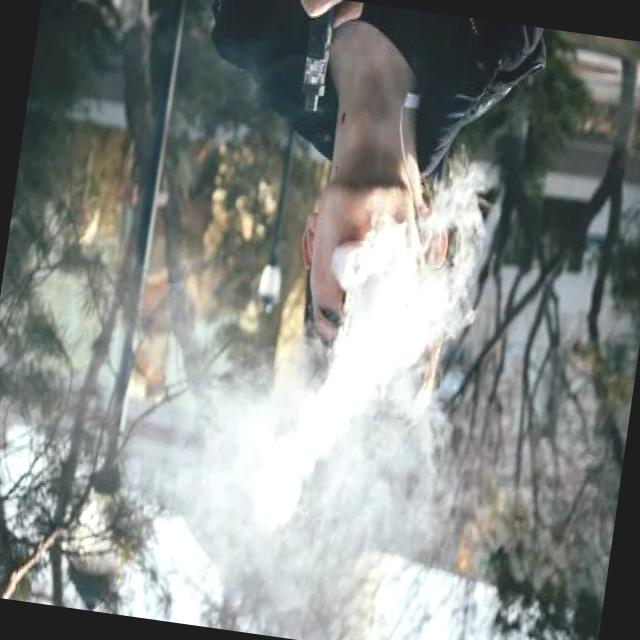smoke: (292, 0, 343, 123)
